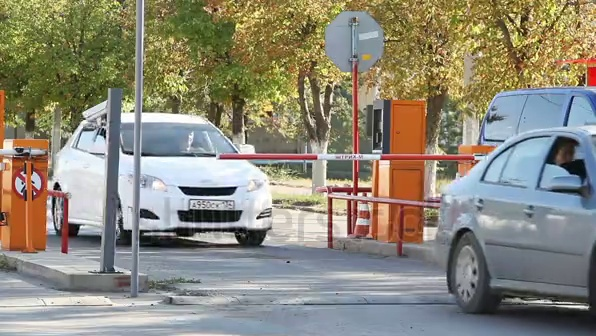licenseplate: (185, 196, 240, 212)
